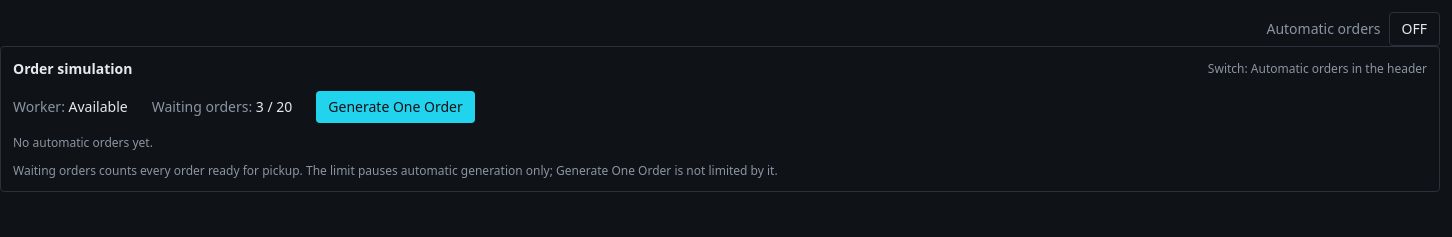
Test: OrderSimulationPanel › Generate One Order › calls the backend exactly once, confirms it and tells the list to refresh
The image size is (1452, 237).
Click the button "Generate One Order". click: click(396, 107)
box: [316,91,475,123]
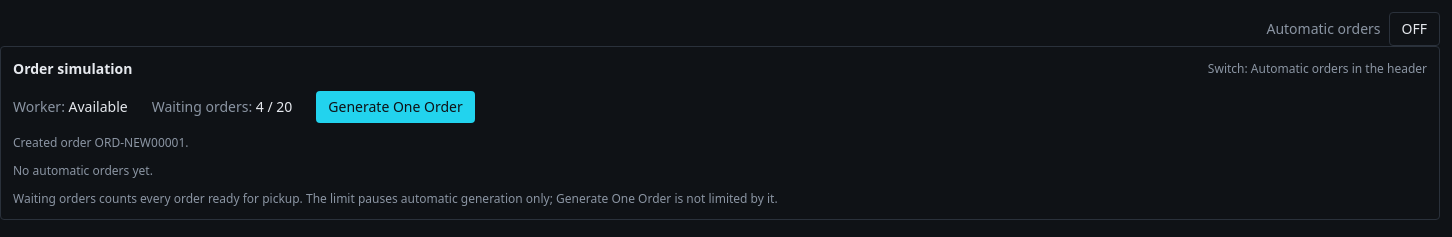
Result: the text "Created order ORD-NEW00001." is shown at [13,134,189,151]
Result: the text "4 / 20" is shown at [152,97,292,117]
